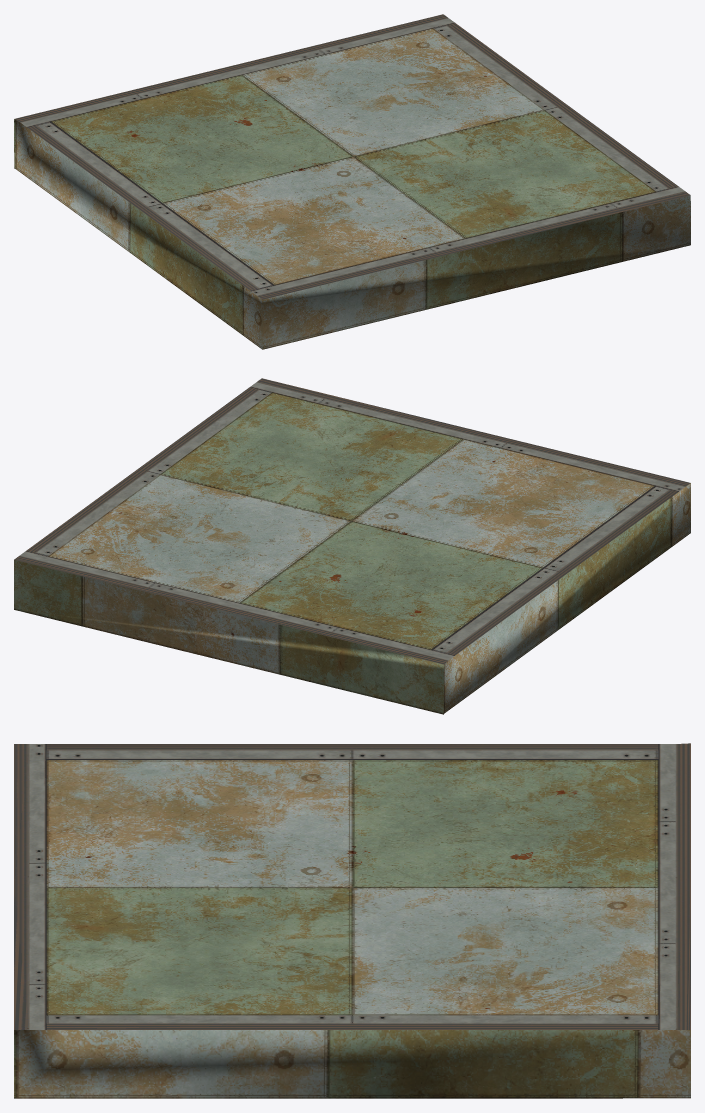
File: Ob_GridPlatform1_RC.fbx
The picture shows the model from 3 angles, top to bottom: view 1: azimuth 30°, elevation 25°; view 2: azimuth 150°, elevation 25°; view 3: azimuth 270°, elevation 25°; orthographic projection. The views are drawn at different scales.
Visible parts, largest first — view 1: Ob_GridPlatform1_RC; view 2: Ob_GridPlatform1_RC; view 3: Ob_GridPlatform1_RC.
Boxes of the visible parts, <box> form: Ob_GridPlatform1_RC: <box>14,14,690,349</box>; Ob_GridPlatform1_RC: <box>14,378,690,714</box>; Ob_GridPlatform1_RC: <box>14,743,690,1098</box>.
Bounding box in the file's own units: 1002 × 112 × 1000.
